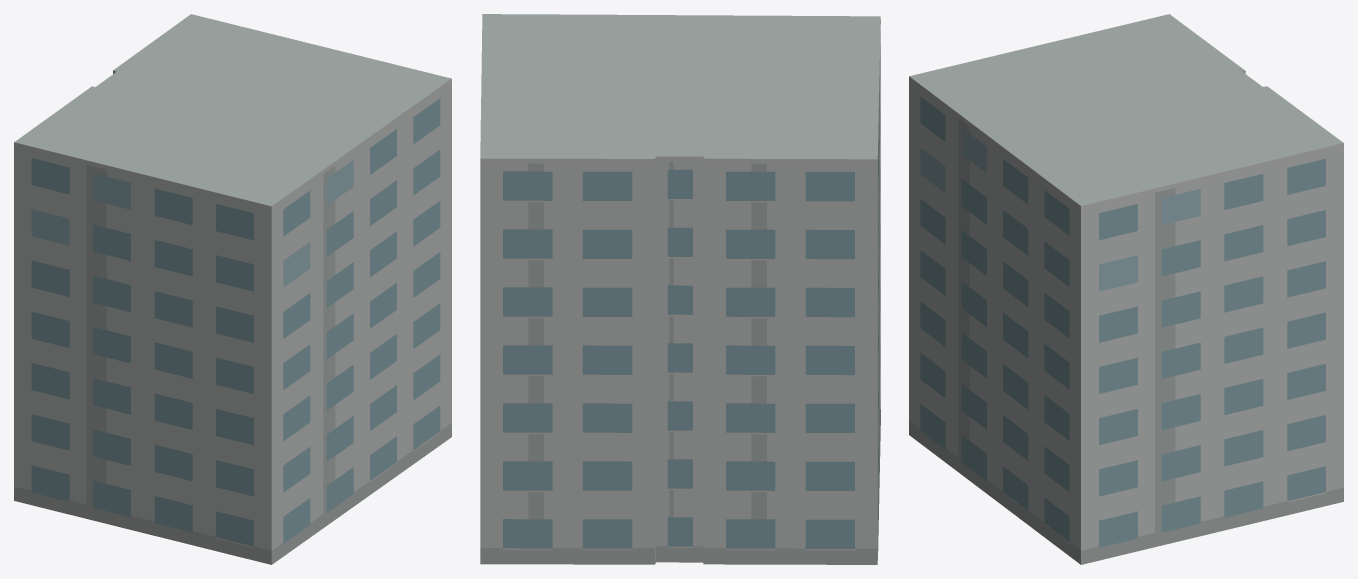
Rendered from survey-upis-33042551.glb.
3 views of the same model, side by side, from view 1: azimuth 30°, elevation 25°; view 2: azimuth 150°, elevation 25°; view 3: azimuth 270°, elevation 25° (orthographic). The views are drawn at different scales.
Visible parts, largest first — view 1: survey-upis-33042551.tmp; view 2: survey-upis-33042551.tmp; view 3: survey-upis-33042551.tmp.
Part boxes in pixels (box(x1,y1,x2,y2)): survey-upis-33042551.tmp: box(14, 14, 451, 564); survey-upis-33042551.tmp: box(480, 14, 880, 564); survey-upis-33042551.tmp: box(909, 14, 1343, 564).
Bounding box in the file's own units: 23.39 × 20.35 × 22.36.
